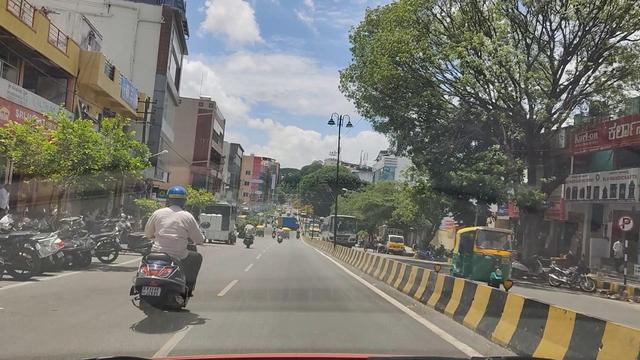LMV: (123, 182, 206, 325)
